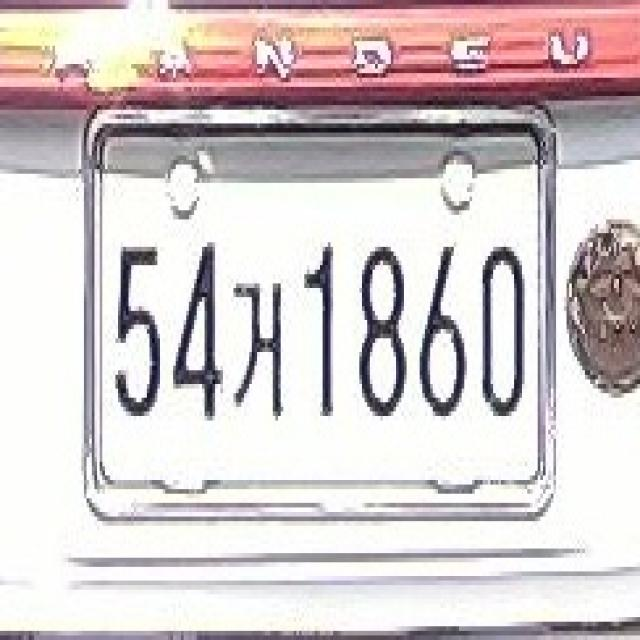0: (478, 215, 528, 420)
1: (304, 219, 344, 430)
4: (162, 220, 225, 420)
5: (115, 228, 160, 421)
6: (415, 224, 472, 421)
8: (351, 228, 412, 421)
geo: (223, 265, 286, 421)
license_plate: (79, 82, 556, 517)
